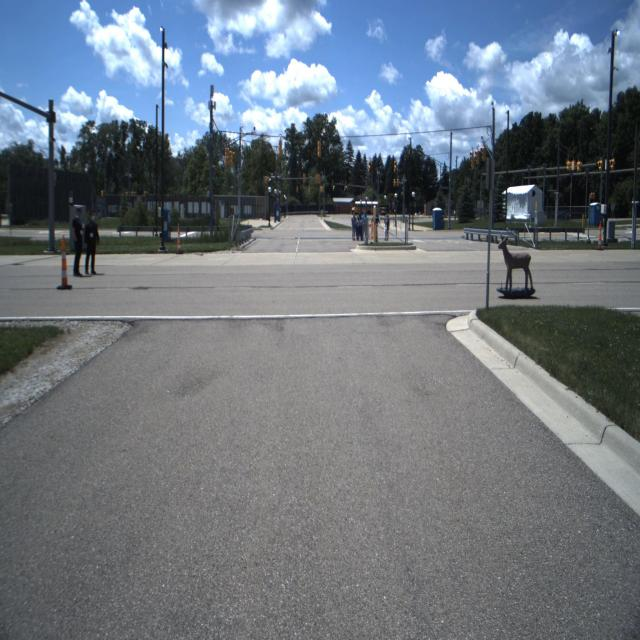Deer: (497, 233, 537, 289)
